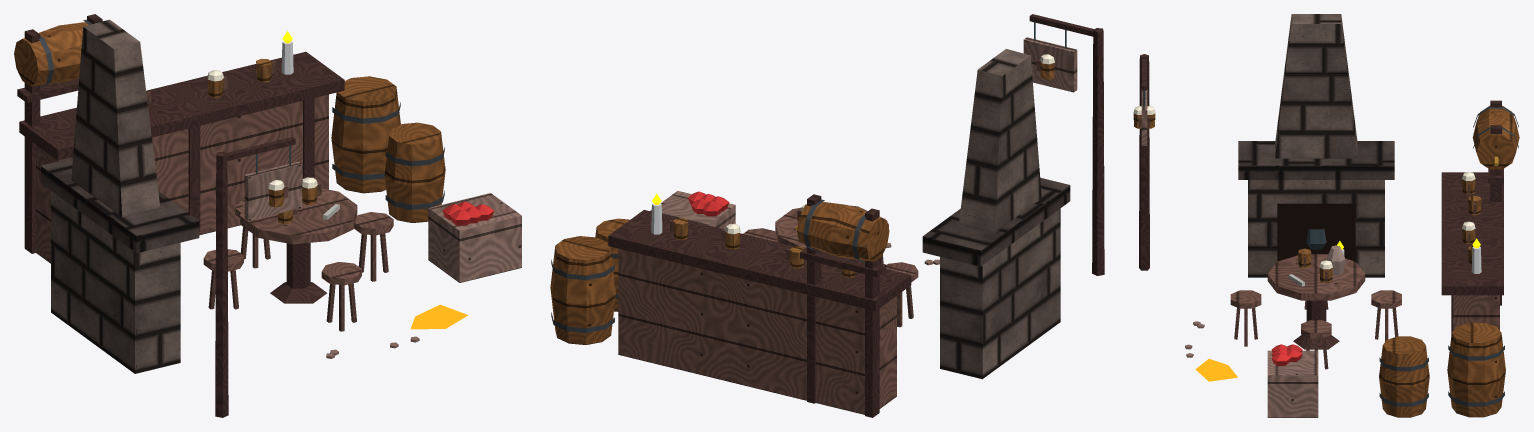
File: tavern.glb
3 views of the same model, side by side, from view 1: azimuth 30°, elevation 25°; view 2: azimuth 150°, elevation 25°; view 3: azimuth 270°, elevation 25° (orthographic). The views are drawn at different scales.
Parts seen in each view (by area): view 1: base_mesh, sway_0_mesh; view 2: base_mesh, sway_0_mesh; view 3: base_mesh, sway_0_mesh.
Boxes of the visible parts, x1,y1,x2,y2 form: base_mesh: (14, 14, 521, 417); sway_0_mesh: (244, 145, 302, 220); base_mesh: (550, 14, 1104, 417); sway_0_mesh: (1023, 22, 1077, 92); base_mesh: (1139, 14, 1519, 417); sway_0_mesh: (1133, 89, 1155, 145).
Size of the model in its own units: 1.95 by 1.4 by 1.98.
23 materials, 13 textured.
